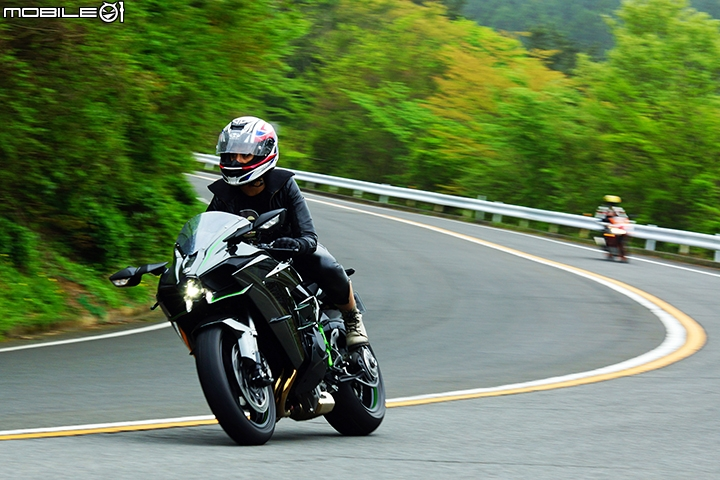helmet: (217, 115, 282, 182)
